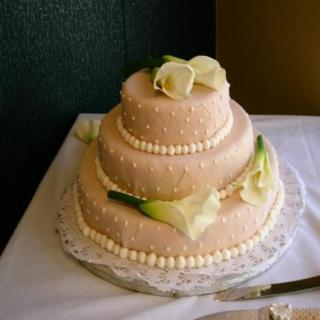Cake: (73, 69, 284, 268)
